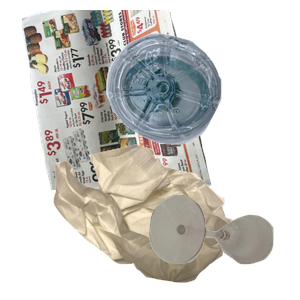glass: (147, 192, 300, 300)
paper: (19, 10, 223, 190)
plastic: (104, 31, 300, 168)
trash: (51, 142, 278, 300)
